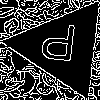P: (37, 22, 79, 71)
